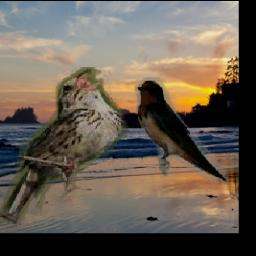Sparrow: (0, 68, 129, 229)
Swallow: (134, 78, 228, 184)
